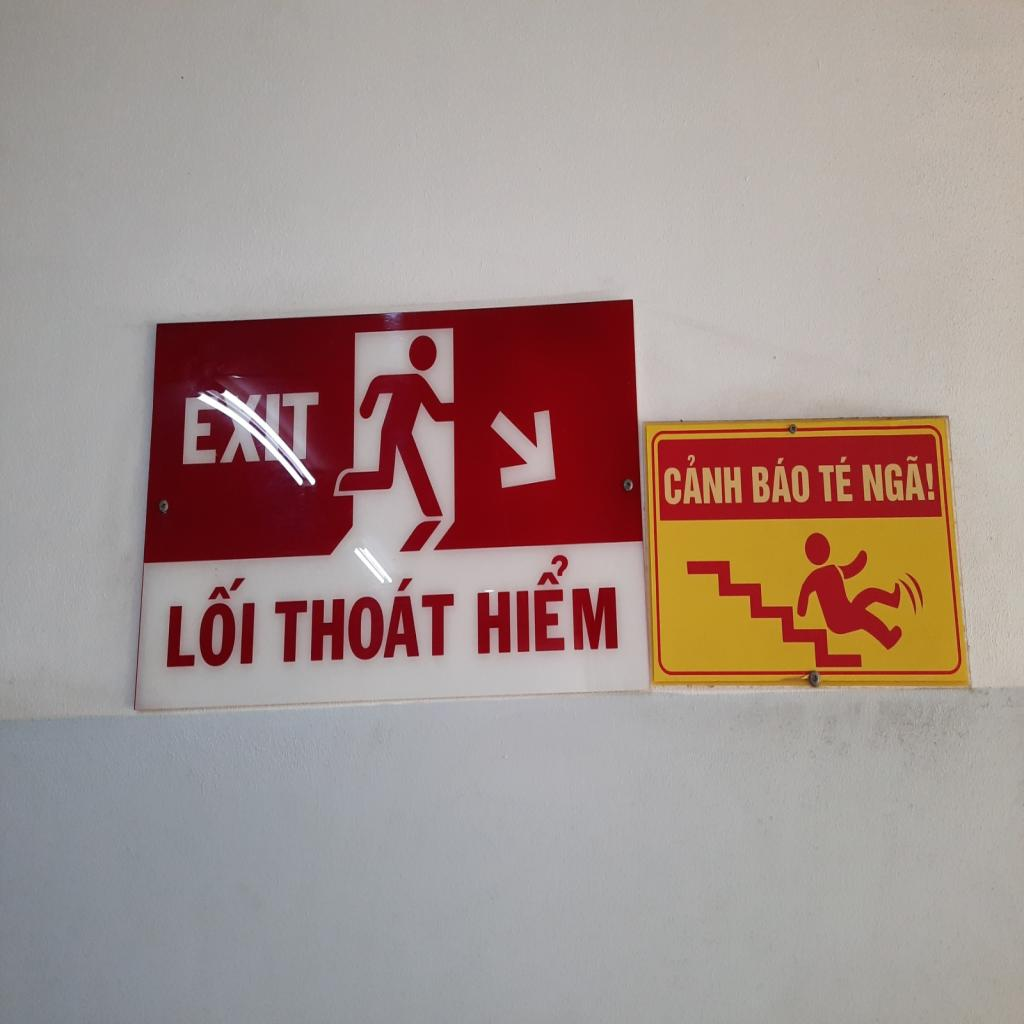text: (274, 572, 454, 664), (473, 548, 619, 656), (181, 392, 320, 465), (165, 573, 257, 669), (660, 453, 744, 510), (749, 456, 811, 508), (817, 454, 855, 503)
